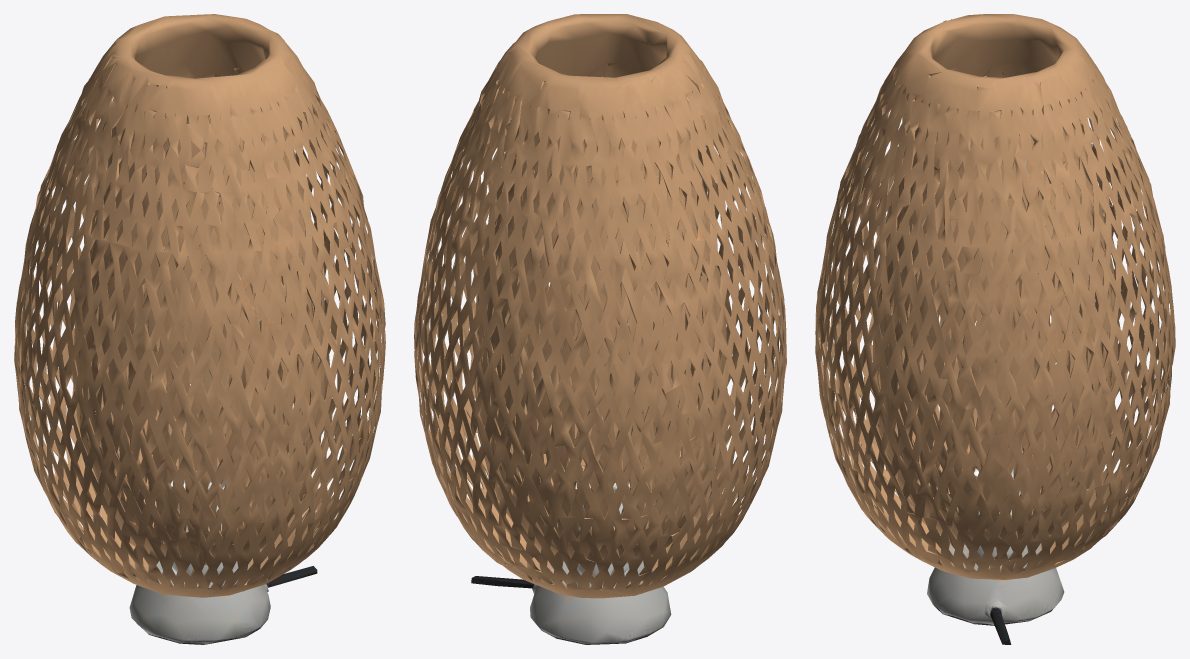
Rendered from boja_lampa_stoowa_60152279.glb.
3 views of the same model, side by side, from view 1: azimuth 30°, elevation 25°; view 2: azimuth 150°, elevation 25°; view 3: azimuth 270°, elevation 25° (orthographic). The views are drawn at different scales.
Visible parts, largest first — view 1: boja_lampa_stoowa_60152279; view 2: boja_lampa_stoowa_60152279; view 3: boja_lampa_stoowa_60152279.
Part boxes in pixels (x1,y1,x2,y2): boja_lampa_stoowa_60152279: (14, 14, 385, 644); boja_lampa_stoowa_60152279: (414, 14, 786, 644); boja_lampa_stoowa_60152279: (815, 14, 1175, 644).
Bounding box in the file's own units: 0.2381 × 0.4029 × 0.2382.
1 material, 1 textured.
